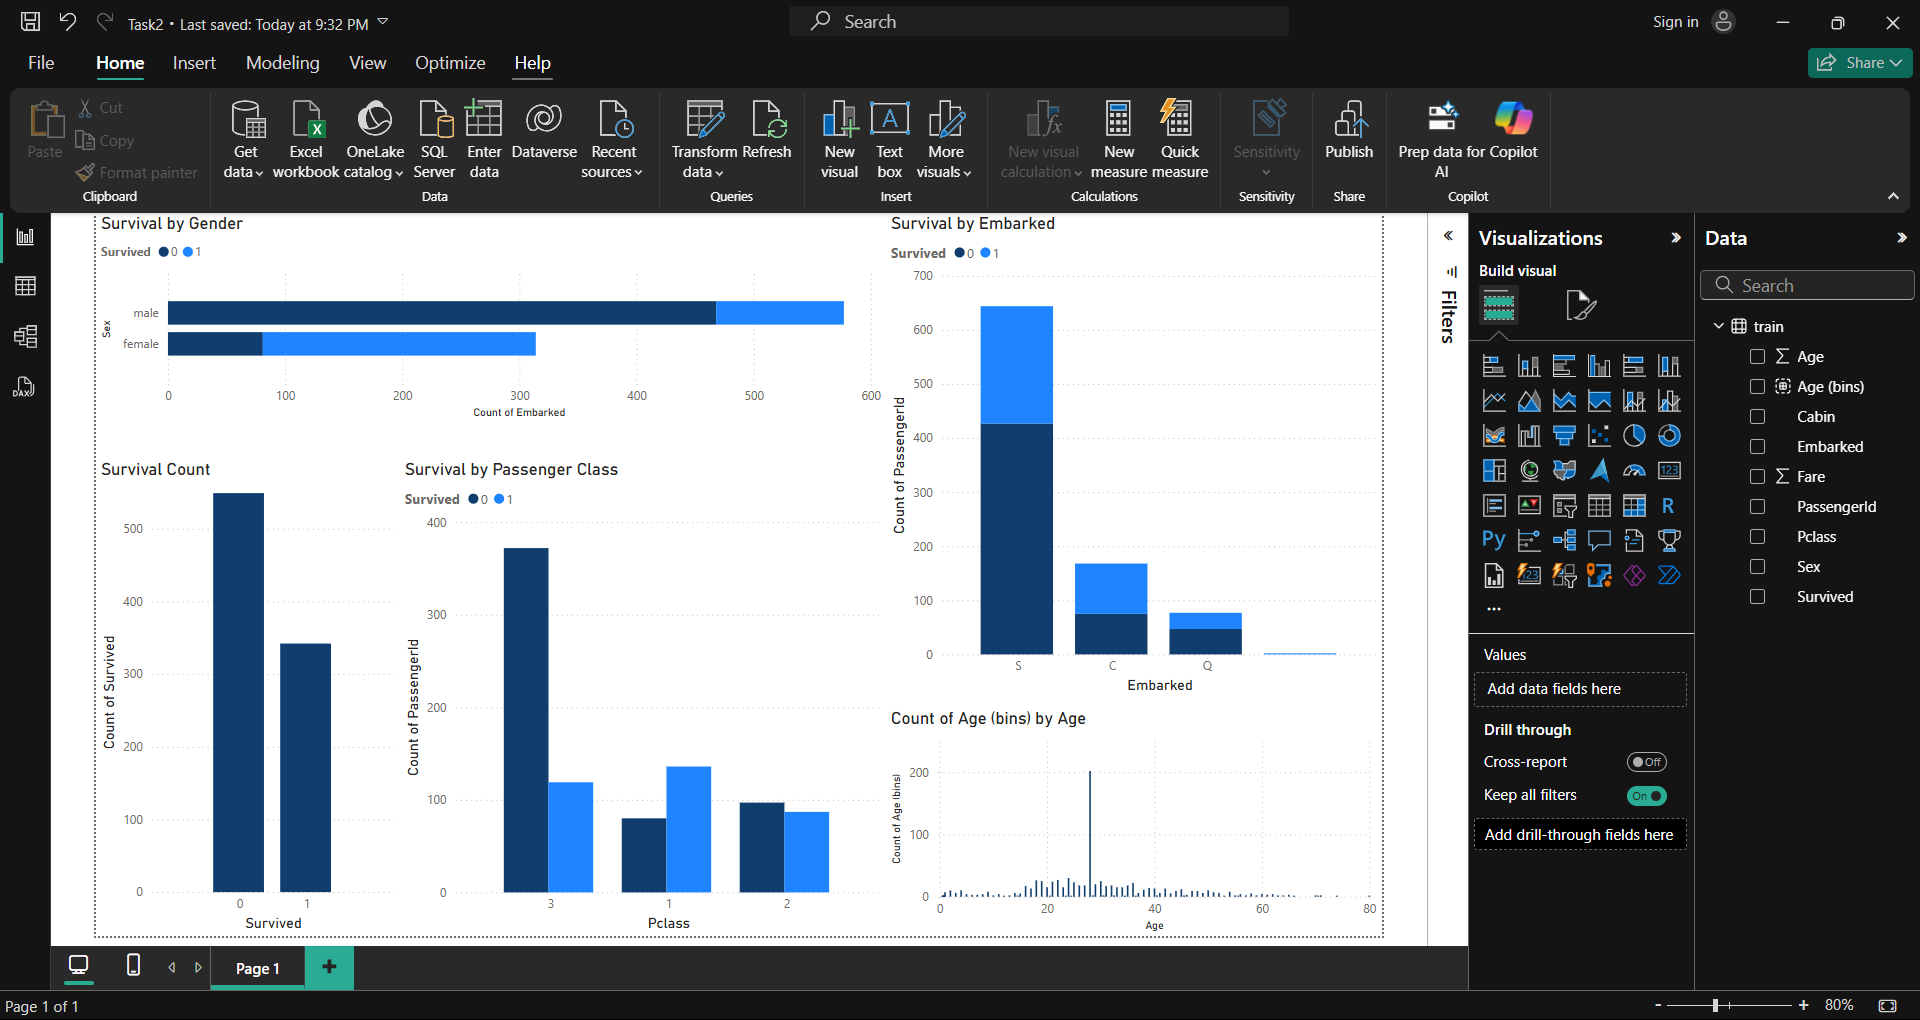

What the dashboard file says about the page in this screenshot:
{"tool":"powerbi","page":{"name":"Page 1","canvas":[1280,720],"ordinal":0},"visuals":[{"type":"barChart","title":"Survival by Gender","fields":{"Category":["train.Sex"],"Series":["train.Survived"],"Y":["CountNonNull(train.Embarked)"]},"box":[0,0,786.3,209.9],"z":0},{"type":"columnChart","title":"Survival Count","fields":{"Category":["train.Survived"],"Y":["CountNonNull(train.Survived)"]},"box":[0,245.6,301.9,474.8],"z":1000},{"type":"clusteredColumnChart","title":"Survival by Passenger Class","fields":{"Category":["train.Pclass"],"Y":["CountNonNull(train.PassengerId)"],"Series":["train.Survived"]},"box":[301.9,245.6,484.4,474.8],"z":2000},{"type":"clusteredColumnChart","fields":{"Category":["train.Age"],"Y":["CountNonNull(train.Age (bins))"]},"box":[786.3,492.6,494,227.8],"z":3000},{"type":"columnChart","title":"Survival by Embarked","fields":{"Category":["train.Embarked"],"Series":["train.Survived"],"Y":["CountNonNull(train.PassengerId)"]},"box":[786.3,0,494,483],"z":4000}]}

Visuals, with their boxes on the page's 1280x720 design canvas (x1, y1, x2, y2). These are canvas units, not pixel positions in the 1920x1020 screenshot, which may show the page scaled, cropped or inside an application window:
"Survival by Gender" barChart: bbox=[0, 0, 786, 210]
"Survival Count" columnChart: bbox=[0, 246, 302, 720]
"Survival by Passenger Class" clusteredColumnChart: bbox=[302, 246, 786, 720]
clusteredColumnChart - train.Age x CountNonNull(train.Age (bins)): bbox=[786, 493, 1280, 720]
"Survival by Embarked" columnChart: bbox=[786, 0, 1280, 483]
